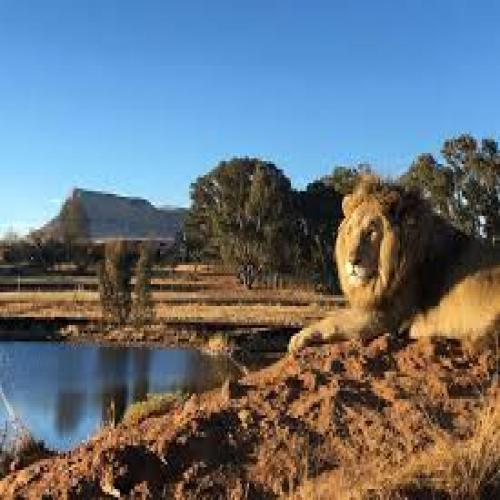lion-endangered: (287, 172, 496, 358)
